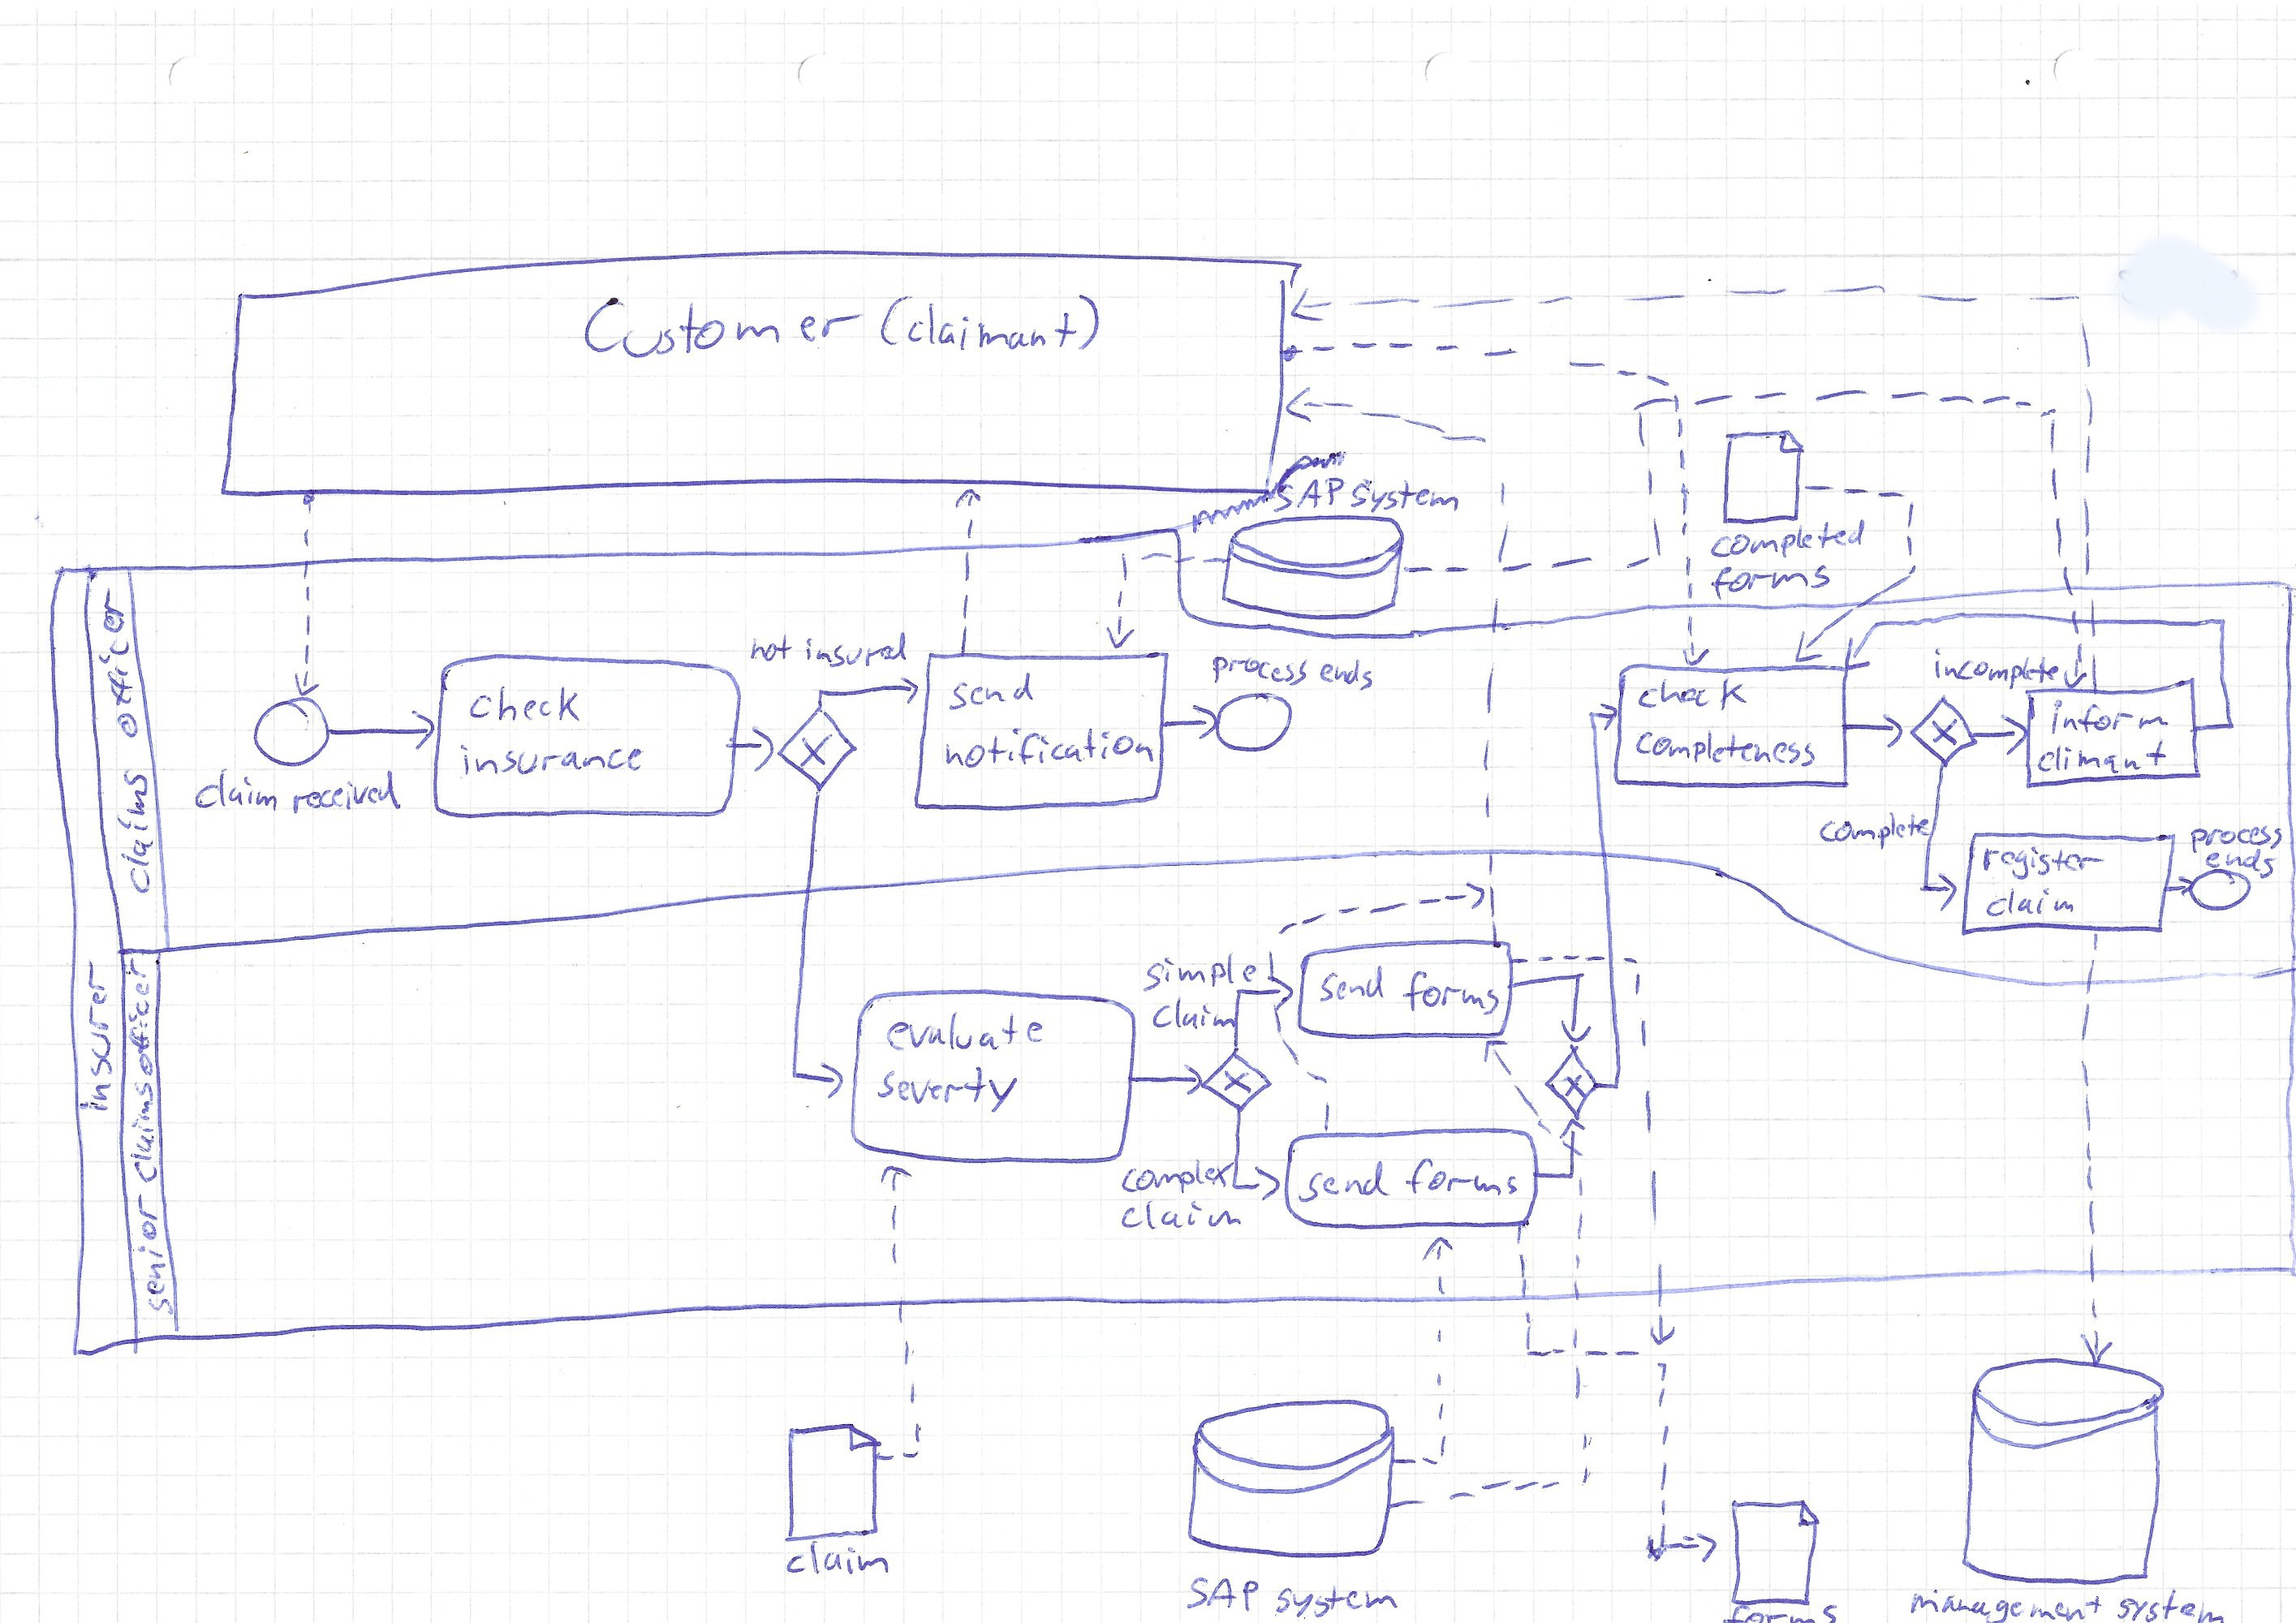(claimant): (878, 300, 1101, 360)
Complete: (1815, 811, 1934, 850)
Customer: (587, 297, 856, 364)
SAP: (1186, 1574, 1265, 1618), (1279, 474, 1344, 509)
System: (1346, 481, 1469, 511)
check: (473, 687, 583, 727), (1639, 680, 1750, 715)
claim: (783, 1542, 894, 1581), (1121, 1203, 1242, 1237), (197, 773, 278, 817), (1154, 999, 1240, 1035), (1989, 891, 2073, 919)
claims: (109, 769, 155, 887), (126, 1077, 165, 1179)
climant: (2036, 741, 2175, 778)
completed: (1715, 516, 1866, 559)
completeness: (1634, 727, 1815, 771)
complex: (1119, 1161, 1233, 1191)
ends: (2199, 848, 2277, 885), (1316, 659, 1377, 694)
evaluate: (885, 1015, 1047, 1057)
forms: (1398, 970, 1504, 1017), (1409, 1163, 1523, 1203), (1709, 564, 1834, 601), (1706, 1604, 1852, 1623)
incomplete: (1932, 652, 2061, 692)
inform: (2040, 699, 2175, 738)
insurance: (453, 743, 648, 780)
insured: (796, 634, 915, 669)
insurer: (77, 956, 118, 1117)
management: (1910, 1591, 2097, 1623)
not: (750, 634, 791, 669)
notification: (945, 725, 1161, 771)
officer: (93, 595, 139, 732), (123, 952, 160, 1070)
process: (1212, 653, 1312, 690), (2191, 822, 2280, 854)
received: (285, 771, 409, 817)
register: (1985, 847, 2103, 878)
send: (1296, 1163, 1395, 1205), (1314, 966, 1393, 1012), (949, 674, 1038, 713)
senior: (132, 1186, 176, 1316)
severity: (875, 1066, 1021, 1112)
simple: (1142, 956, 1260, 987)
system: (1270, 1581, 1397, 1618), (2117, 1590, 2224, 1623)
